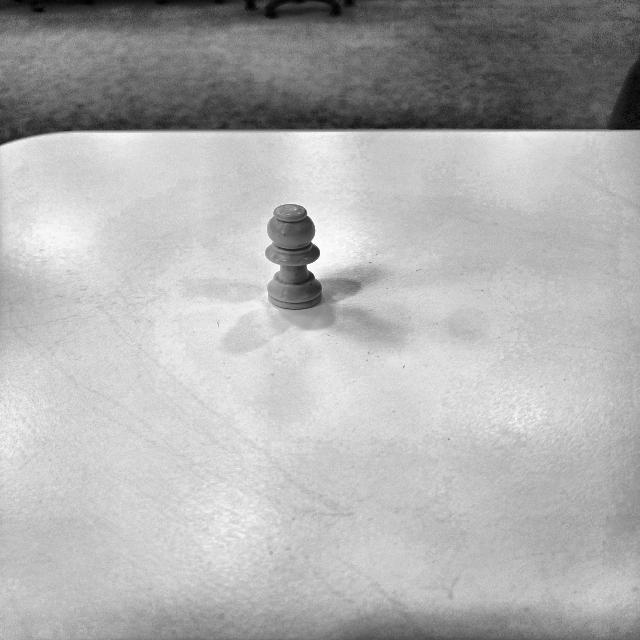white-bishop: (266, 204, 324, 310)
